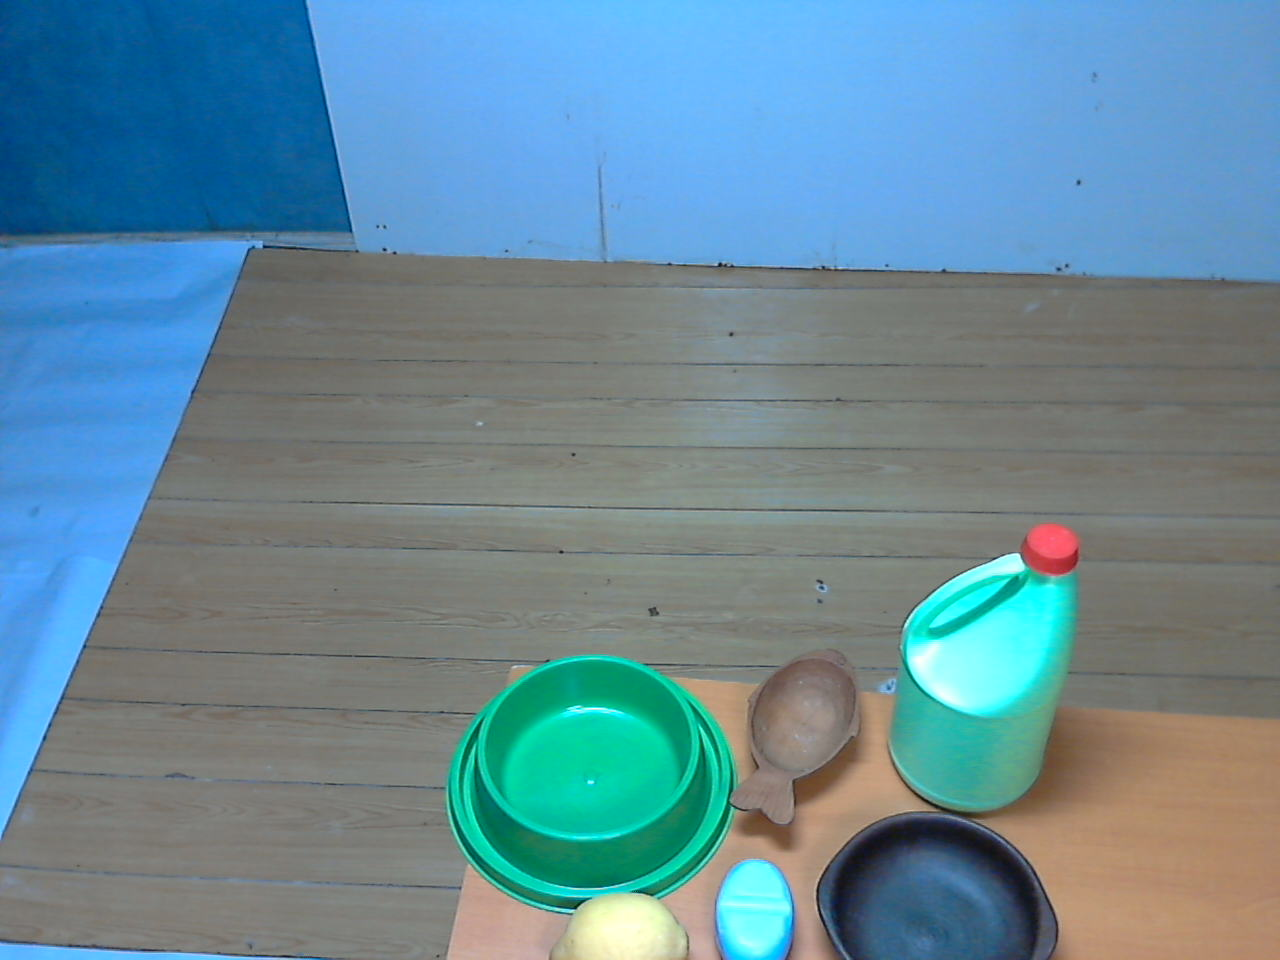cloroplano: (879, 511, 1092, 832)
greda: (802, 807, 1068, 960)
limon: (532, 882, 699, 960)
pescado: (723, 636, 883, 831)
platoperro: (442, 651, 749, 925)
